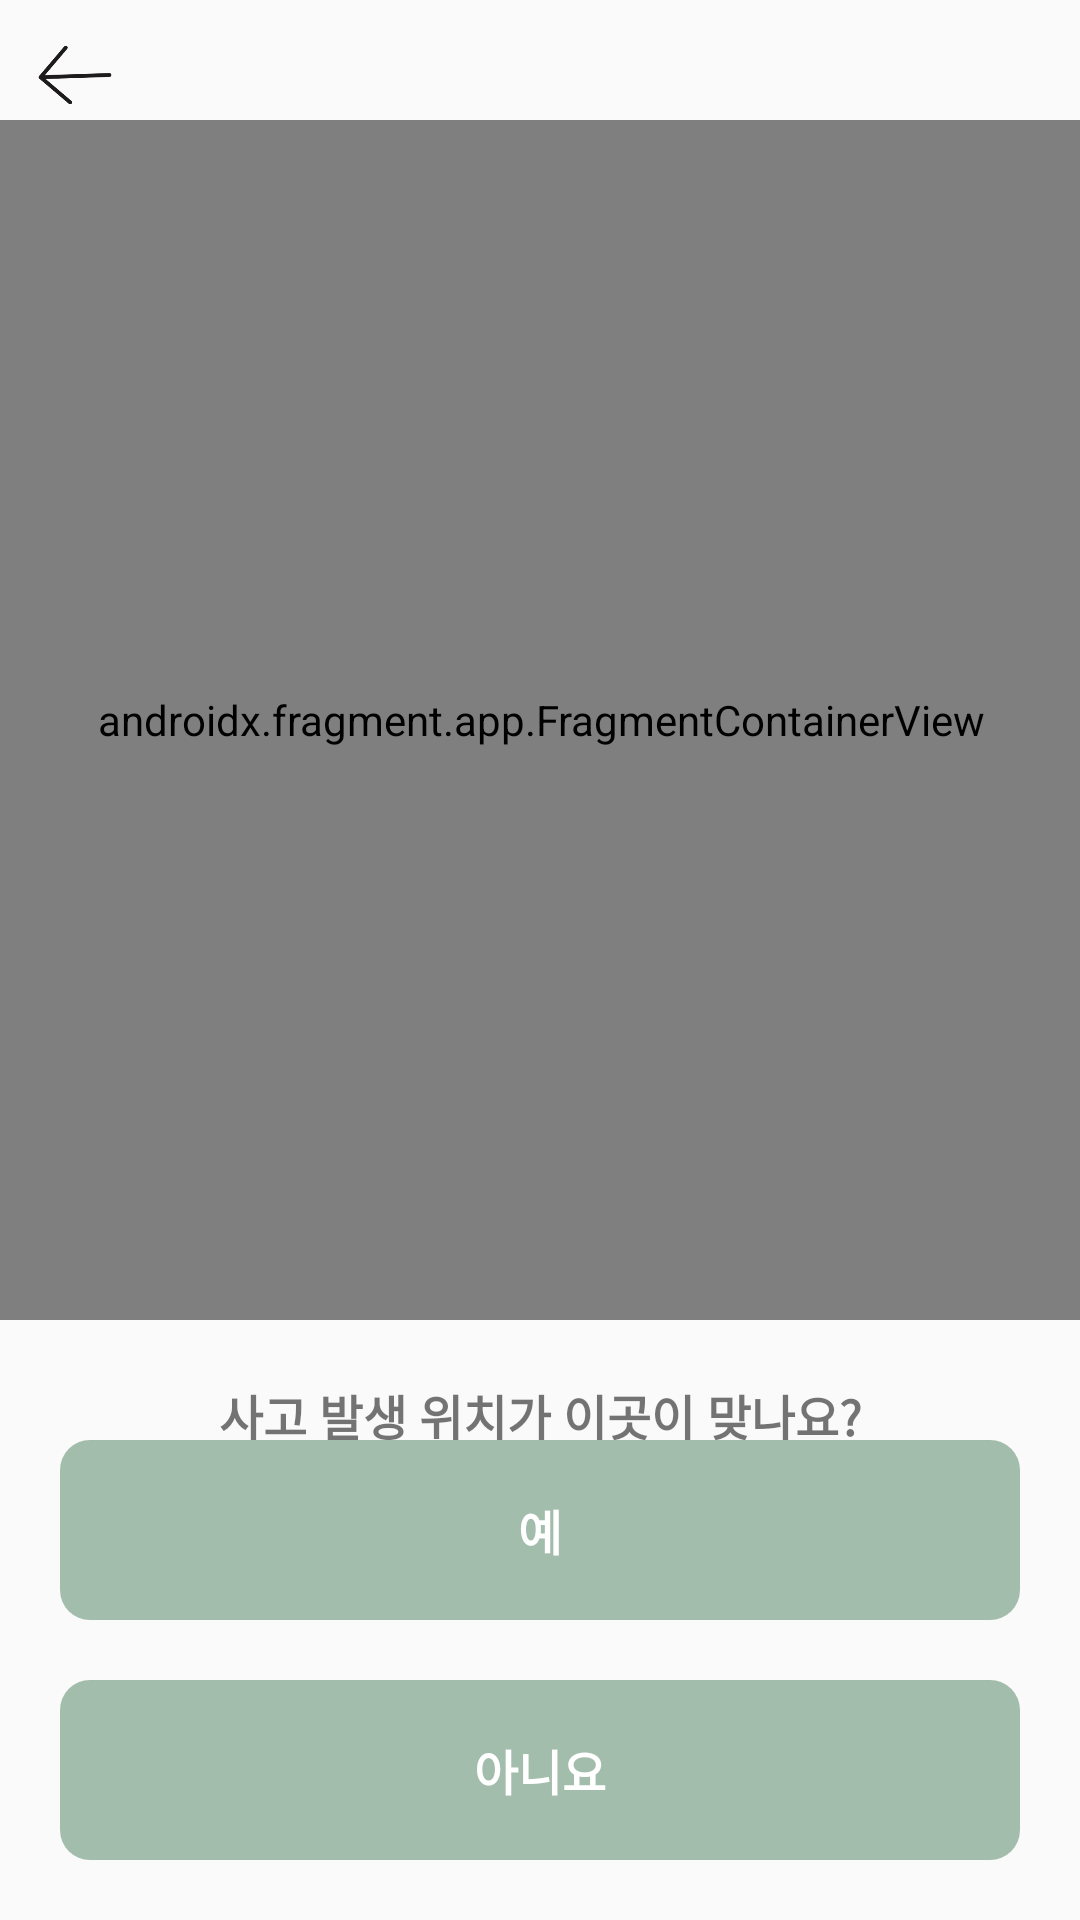

Screen size 1080 x 1920. Icon name, then its center in pixels as (x,y):
back arrow: (75,75)
